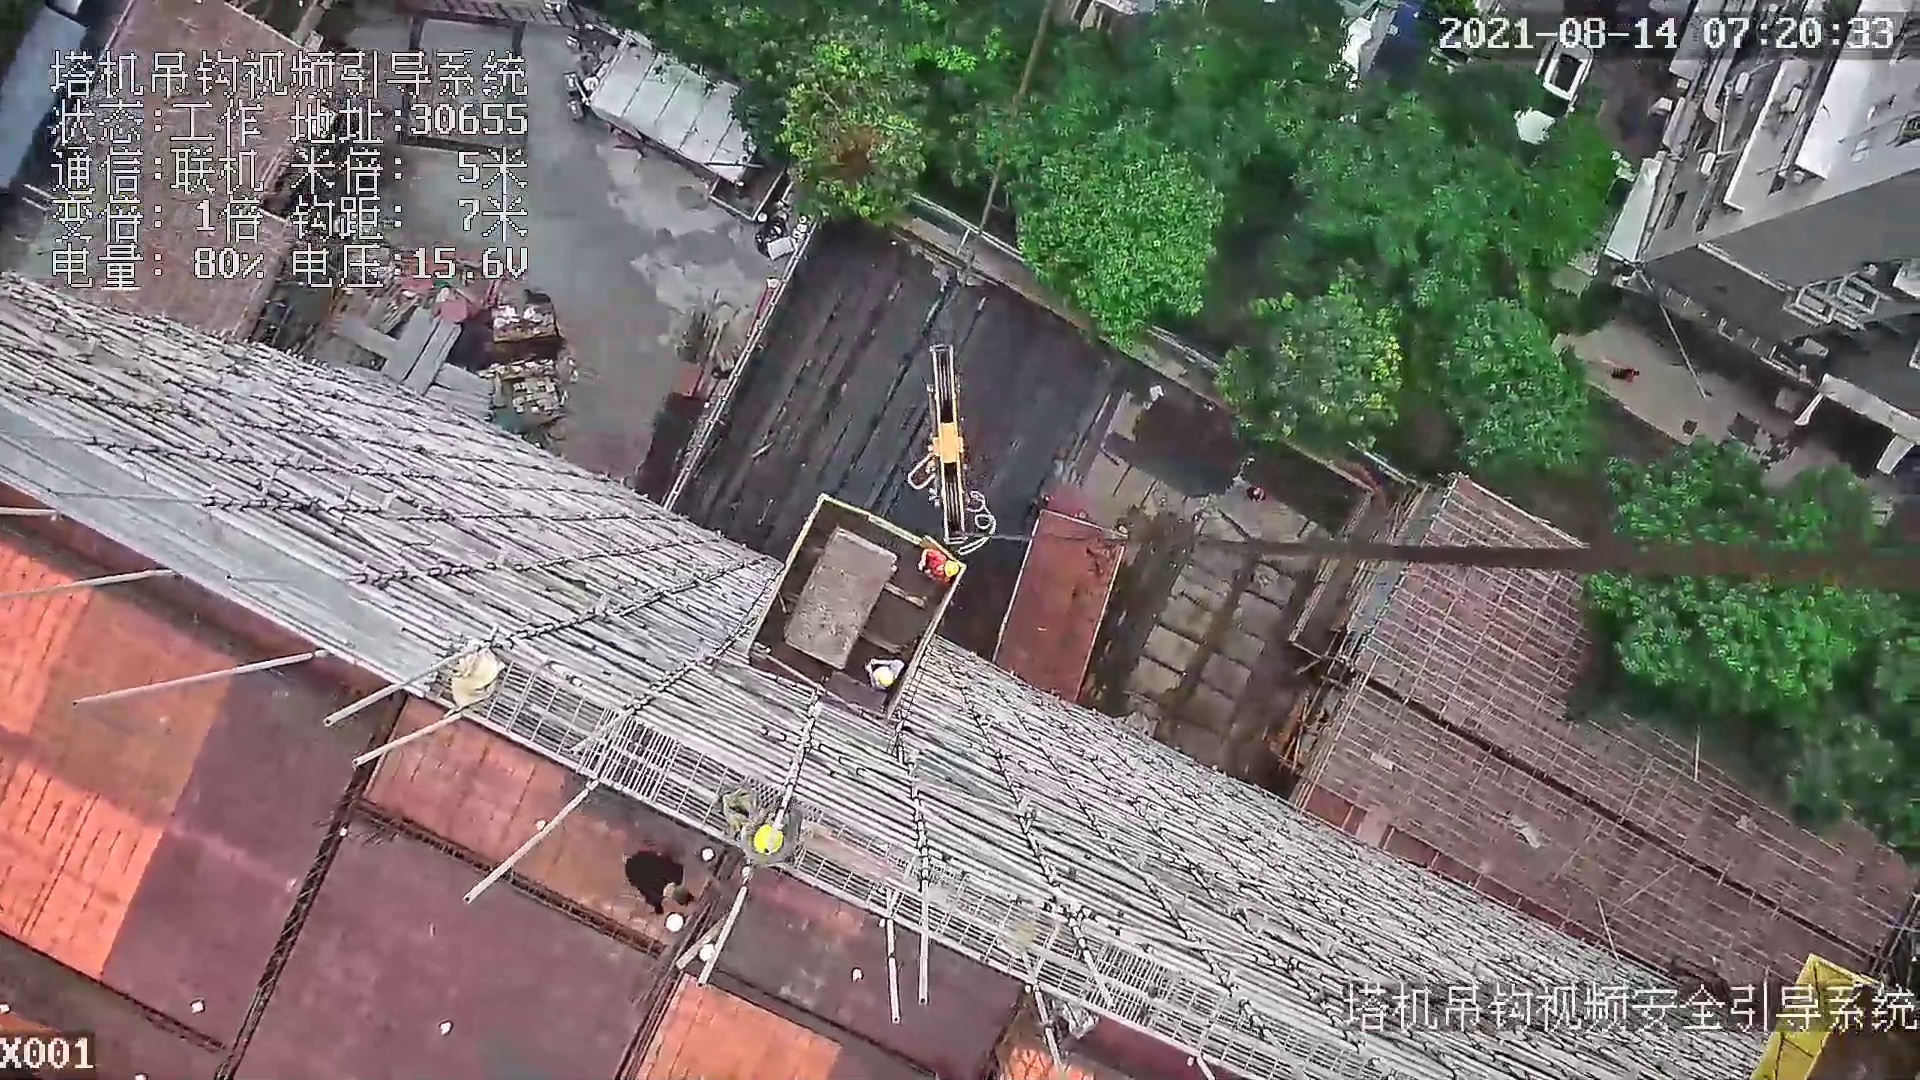helmet: (755, 821, 785, 861), (942, 557, 961, 580), (875, 665, 893, 690)
person: (729, 791, 808, 878), (632, 850, 699, 921), (915, 539, 962, 589), (872, 654, 901, 691)
